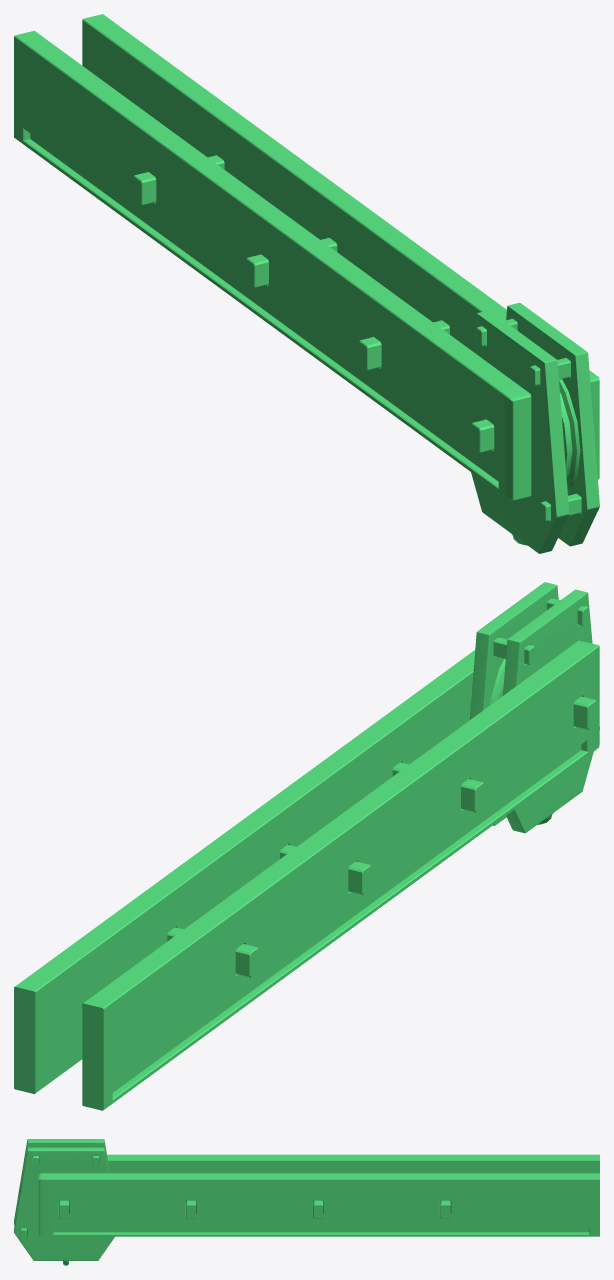
File: SM_Pulley_Rail.fbx
The picture shows the model from 3 angles, top to bottom: view 1: azimuth 30°, elevation 25°; view 2: azimuth 150°, elevation 25°; view 3: azimuth 270°, elevation 25°; orthographic projection. The views are drawn at different scales.
Parts seen in each view (by area): view 1: SM_Pulley_Rail_Side_A1, SM_Pulley_Rail_Side_A, SM_Pulley_Rail_Side_B1, SM_Pulley_Rail_Side_B, wheel; view 2: SM_Pulley_Rail_Side_A1, SM_Pulley_Rail_Side_A, SM_Pulley_Rail_Side_B1, SM_Pulley_Rail_Side_B; view 3: SM_Pulley_Rail_Side_A, SM_Pulley_Rail_Side_A1, SM_Pulley_Rail_Side_B, SM_Pulley_Rail_Side_B1.
Boxes of the visible parts, x1,y1,x2,y2 form: SM_Pulley_Rail_Side_A1: [14, 30, 531, 500]; SM_Pulley_Rail_Side_A: [82, 14, 599, 479]; SM_Pulley_Rail_Side_B1: [471, 310, 572, 553]; SM_Pulley_Rail_Side_B: [504, 302, 599, 546]; wheel: [559, 379, 580, 494]; SM_Pulley_Rail_Side_A1: [82, 640, 599, 1110]; SM_Pulley_Rail_Side_A: [14, 650, 475, 1093]; SM_Pulley_Rail_Side_B1: [502, 589, 599, 833]; SM_Pulley_Rail_Side_B: [470, 582, 560, 825]; SM_Pulley_Rail_Side_A: [38, 1173, 599, 1236]; SM_Pulley_Rail_Side_A1: [107, 1154, 599, 1173]; SM_Pulley_Rail_Side_B: [14, 1147, 114, 1260]; SM_Pulley_Rail_Side_B1: [14, 1139, 109, 1224].
Size of the model in its own units: 35.61 by 61.61 by 273.
